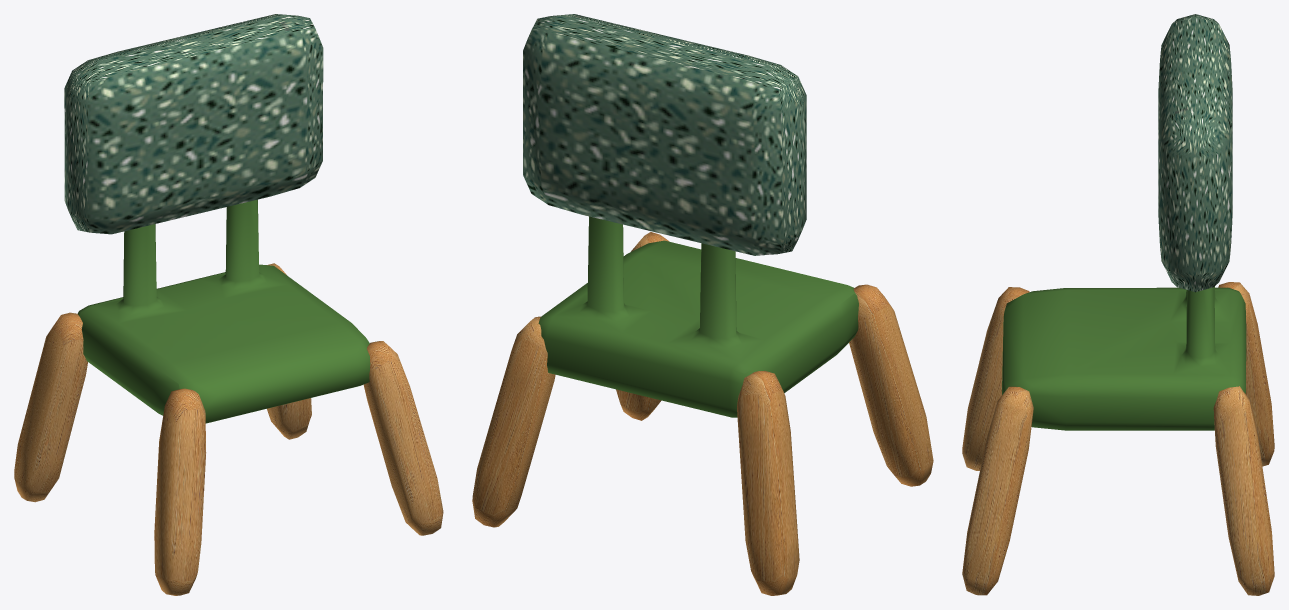
Rendered from chair_02.glb.
The picture shows the model from 3 angles, left to right: view 1: azimuth 30°, elevation 25°; view 2: azimuth 150°, elevation 25°; view 3: azimuth 270°, elevation 25°; orthographic projection. The views are drawn at different scales.
Parts seen in each view (by area): view 1: Chair_02; view 2: Chair_02; view 3: Chair_02.
Boxes of the visible parts, bbox=[...] form: Chair_02: bbox=[14, 14, 443, 595]; Chair_02: bbox=[472, 14, 933, 595]; Chair_02: bbox=[962, 14, 1274, 595].
Size of what is drawn, in the model's own units: 1.54 by 2.3 by 1.39.
Materials: 3 (3 with a texture image).
